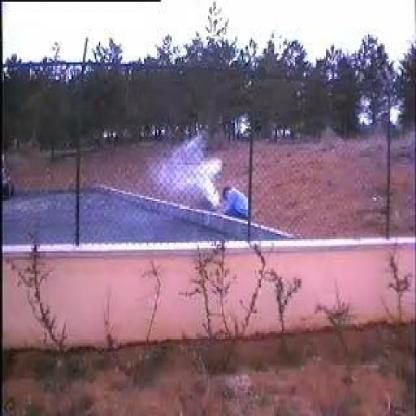-: (160, 132, 225, 206)
